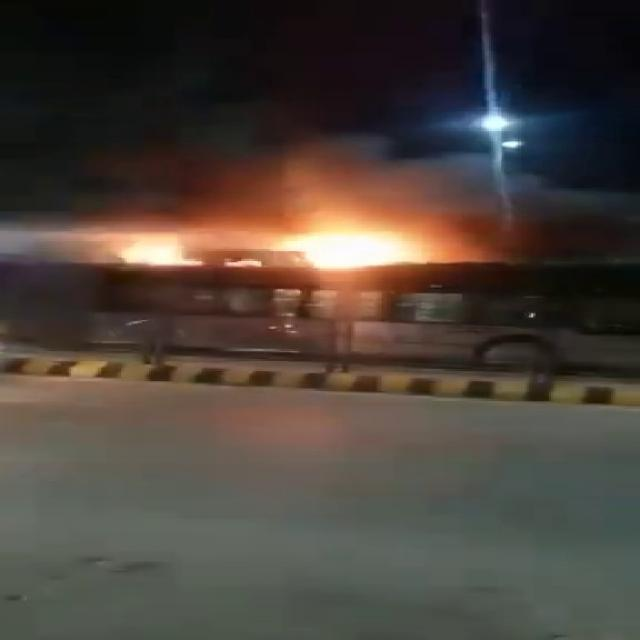Fire: (284, 210, 433, 273), (118, 234, 224, 270)
